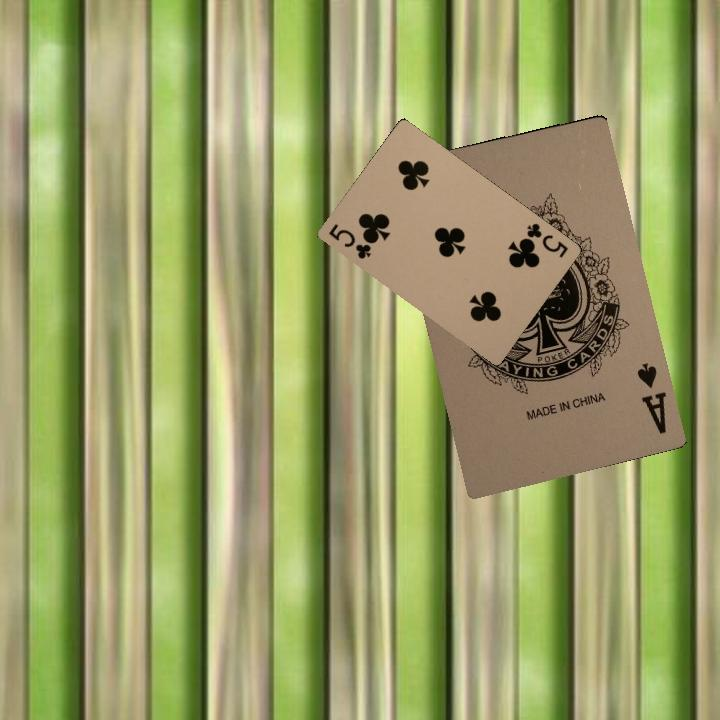5c: (521, 219, 571, 261), (325, 220, 374, 262)
As: (632, 359, 669, 437)
